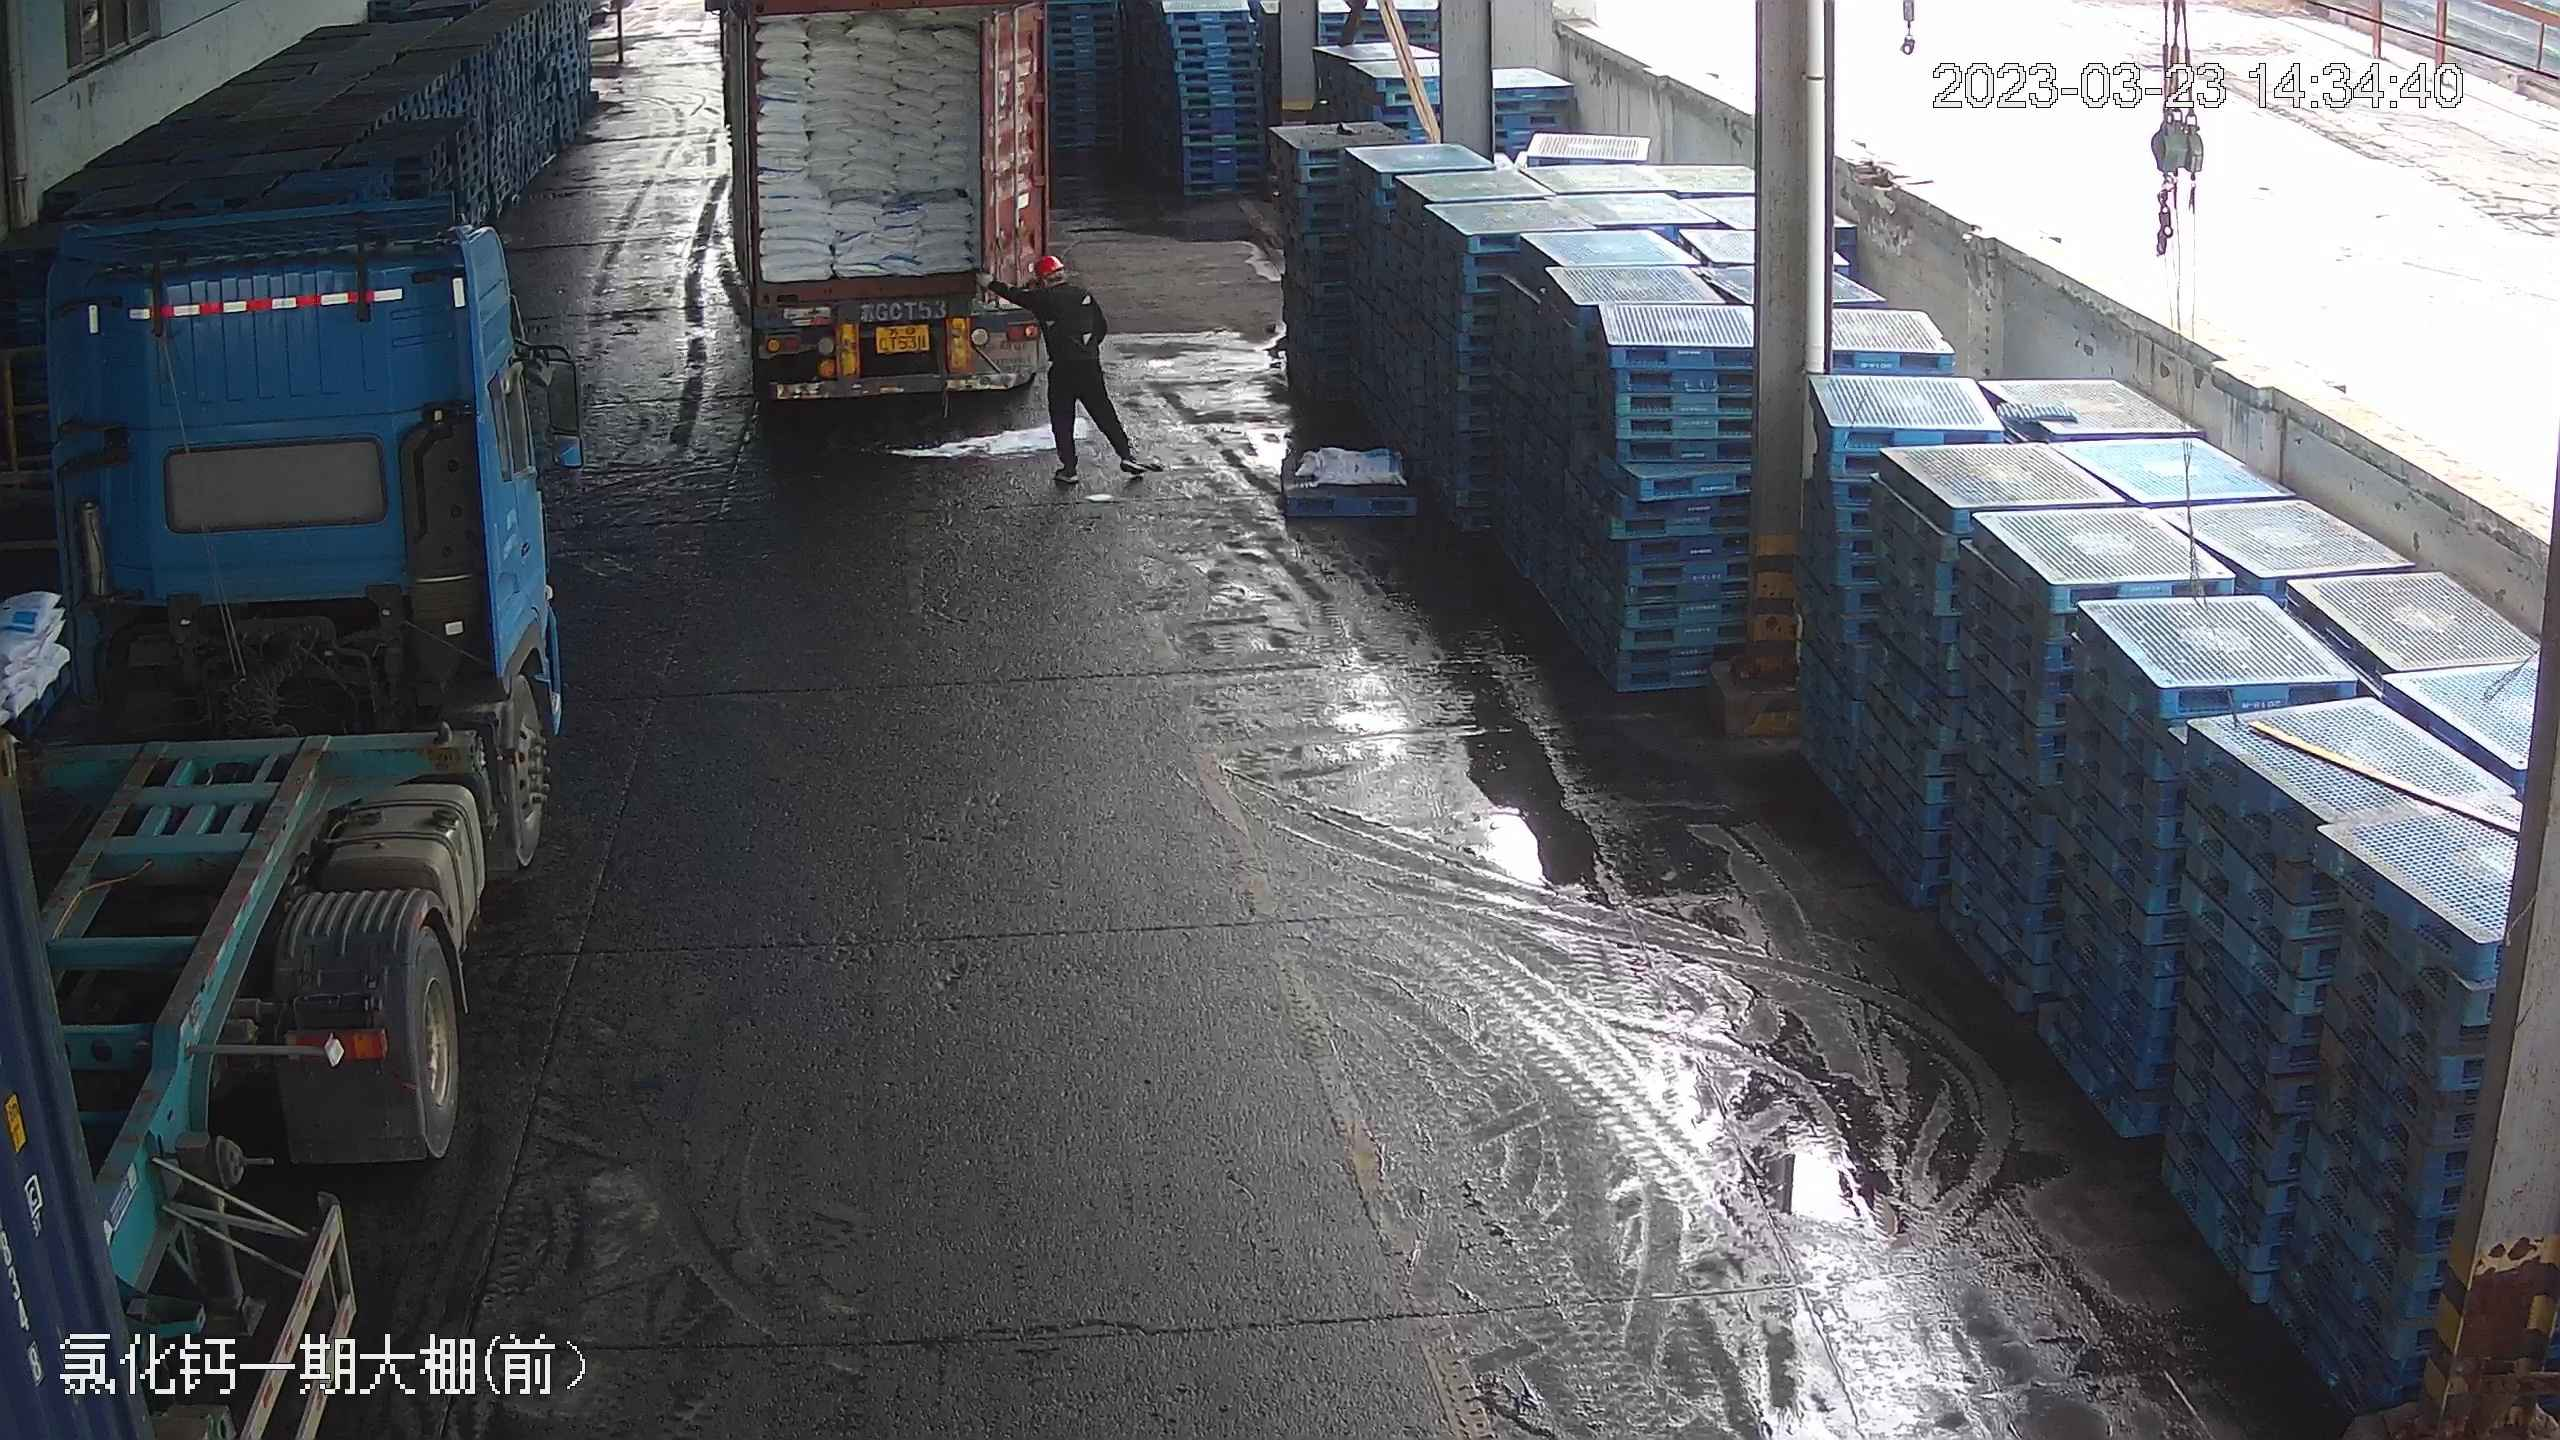head: (1026, 250, 1100, 327)
helmet: (1035, 250, 1071, 278)
people: (1028, 247, 1147, 488)
truck: (0, 191, 601, 1440), (702, 3, 1051, 411)
